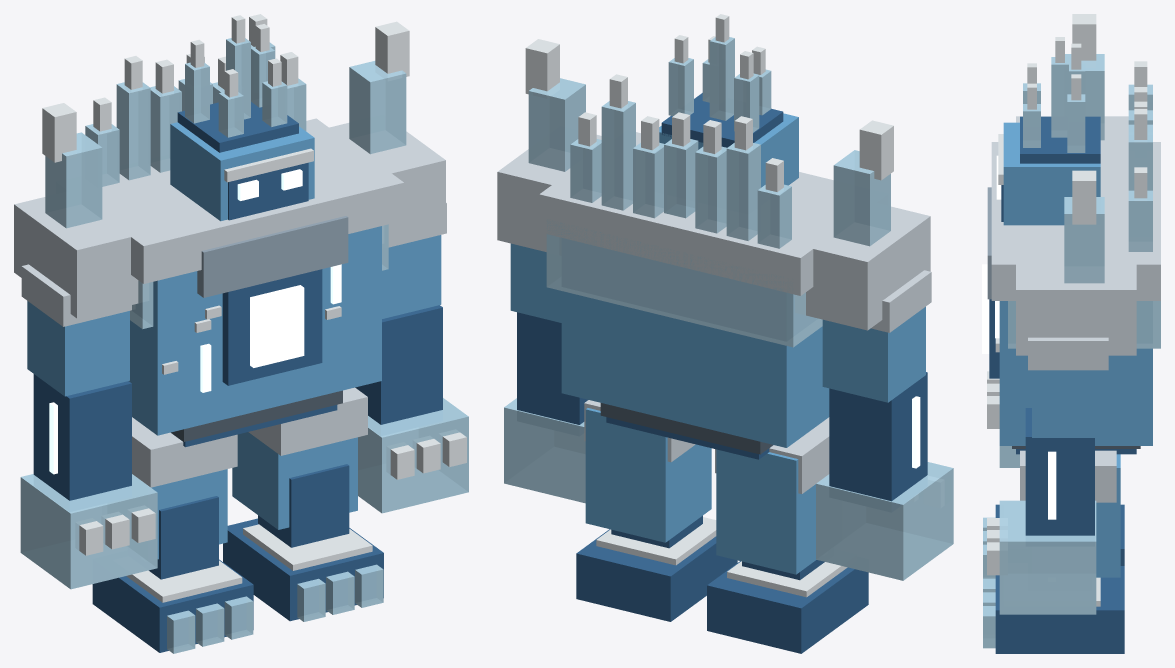
The model's file is boss-frost.glb.
3 renders of one model, left to right at view 1: azimuth 30°, elevation 25°; view 2: azimuth 150°, elevation 25°; view 3: azimuth 270°, elevation 25°, orthographic. The views are drawn at different scales.
Visible parts, largest first — view 1: body, body_fur, right_hand, body_shoulder_r, right_arm_fore, left_hand, body_fur_front, right_arm, body_shoulder_l, left_arm_fore, left_leg, head (+44 smaller); view 2: body, body_fur, body_upper, left_leg, right_hand, right_leg, body_shoulder_r, right_arm_fore, right_foot, left_foot, right_arm, left_hand (+25 smaller); view 3: body_fur, body_shoulder_l, left_hand, body, left_arm_fore, left_foot, head, left_arm, body_horn_l, left_arm_fur, head_crown, left_leg (+28 smaller).
Boxes of the visible parts, left/top/right/bottom form: body: left=129, top=226, right=381, bottom=435; body_fur: left=102, top=118, right=404, bottom=283; right_hand: left=20, top=474, right=157, bottom=589; body_shoulder_r: left=14, top=197, right=168, bottom=318; right_arm_fore: left=33, top=374, right=131, bottom=500; left_hand: left=358, top=398, right=468, bottom=513; body_fur_front: left=197, top=216, right=348, bottom=297; right_arm: left=27, top=301, right=129, bottom=396; body_shoulder_l: left=308, top=123, right=445, bottom=242; left_arm_fore: left=355, top=305, right=442, bottom=424; left_leg: left=232, top=432, right=357, bottom=529; head: left=170, top=122, right=314, bottom=221; body: left=561, top=291, right=829, bottom=447; body_fur: left=539, top=132, right=833, bottom=295; body_upper: left=546, top=219, right=822, bottom=347; left_leg: left=585, top=408, right=711, bottom=542; right_hand: left=816, top=462, right=953, bottom=580; right_leg: left=716, top=449, right=816, bottom=574; body_shoulder_r: left=788, top=202, right=930, bottom=330; right_arm_fore: left=829, top=372, right=927, bottom=501; right_foot: left=707, top=561, right=868, bottom=653; left_foot: left=576, top=529, right=737, bottom=621; right_arm: left=822, top=306, right=925, bottom=402; left_hand: left=504, top=398, right=585, bottom=503; body_fur: left=991, top=142, right=1160, bottom=300; body_shoulder_l: left=1016, top=264, right=1136, bottom=355; left_hand: left=999, top=500, right=1096, bottom=614; body: left=999, top=301, right=1152, bottom=445; left_arm_fore: left=1025, top=408, right=1094, bottom=535; left_foot: left=995, top=566, right=1124, bottom=653; head: left=1003, top=122, right=1100, bottom=225; left_arm: left=1032, top=370, right=1104, bottom=437; body_horn_l: left=1064, top=197, right=1104, bottom=283; left_arm_fur: left=1028, top=337, right=1108, bottom=370; head_crown: left=1020, top=116, right=1100, bottom=163; left_leg: left=1096, top=454, right=1120, bottom=577.
Size of the model in its own units: 5.5 by 7.7 by 2.22.
